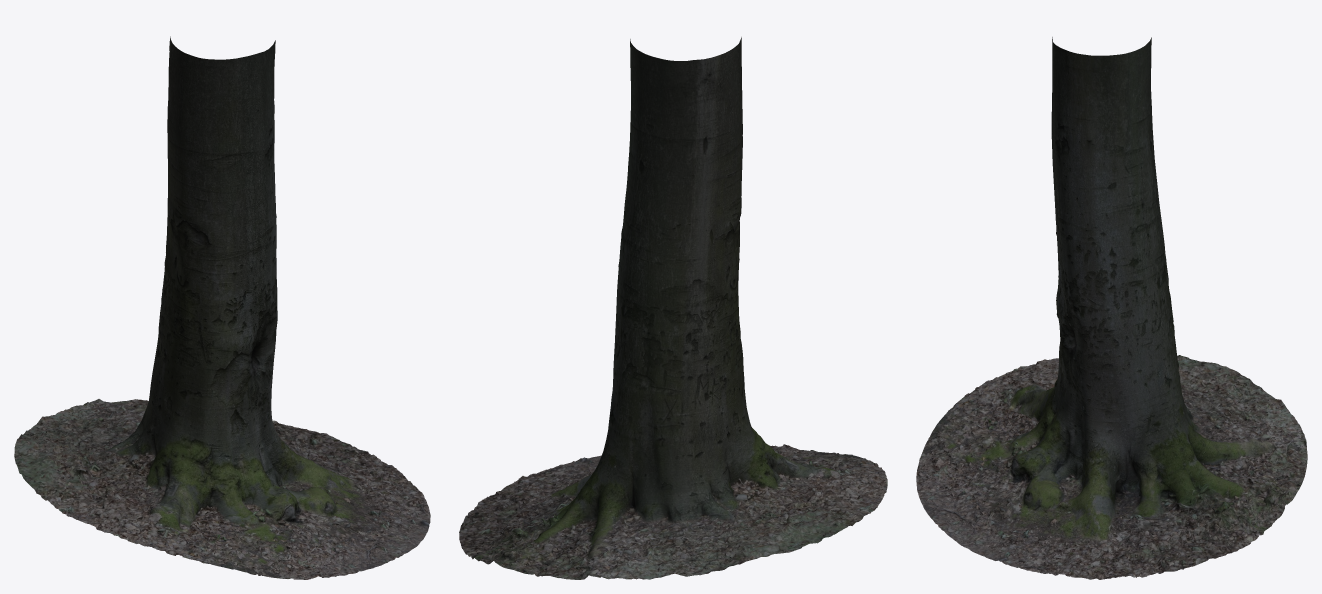
The model's file is spruce_snag.glb.
3 views of the same model, side by side, from view 1: azimuth 30°, elevation 25°; view 2: azimuth 150°, elevation 25°; view 3: azimuth 270°, elevation 25° (orthographic). The views are drawn at different scales.
Parts seen in each view (by area): view 1: spruce_snag; view 2: spruce_snag; view 3: spruce_snag.
Part boxes in pixels (x1,y1,x2,y2): spruce_snag: (14, 36, 430, 579); spruce_snag: (459, 37, 887, 579); spruce_snag: (916, 37, 1307, 579).
Size of the model in its own units: 2.85 by 3.7 by 2.85.
Materials: 1 (1 with a texture image).
